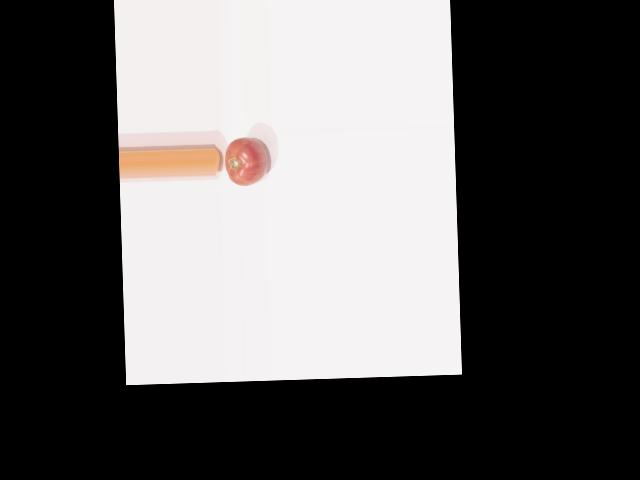tomato: (224, 137, 268, 186)
